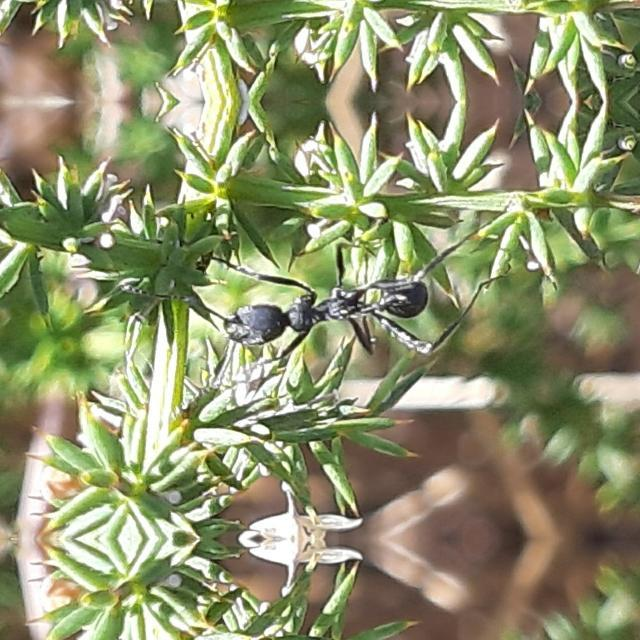Apheanogaster: (187, 245, 463, 368)
